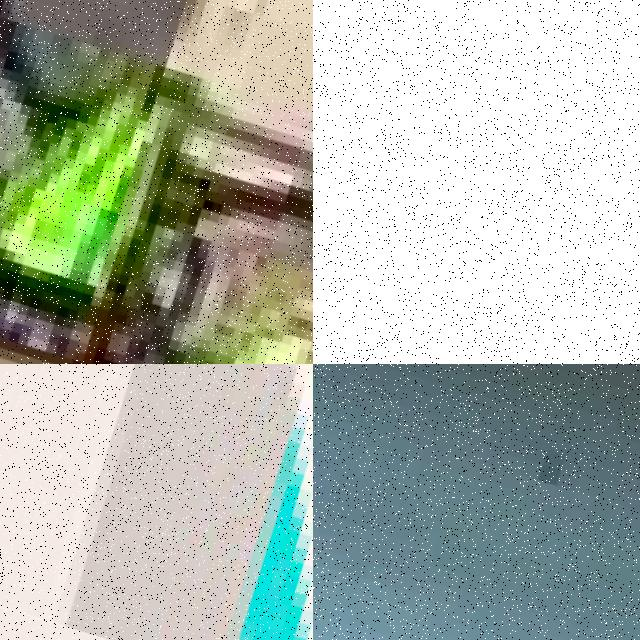0: (0, 0, 313, 364)
drone: (313, 364, 640, 640), (0, 364, 313, 640)
